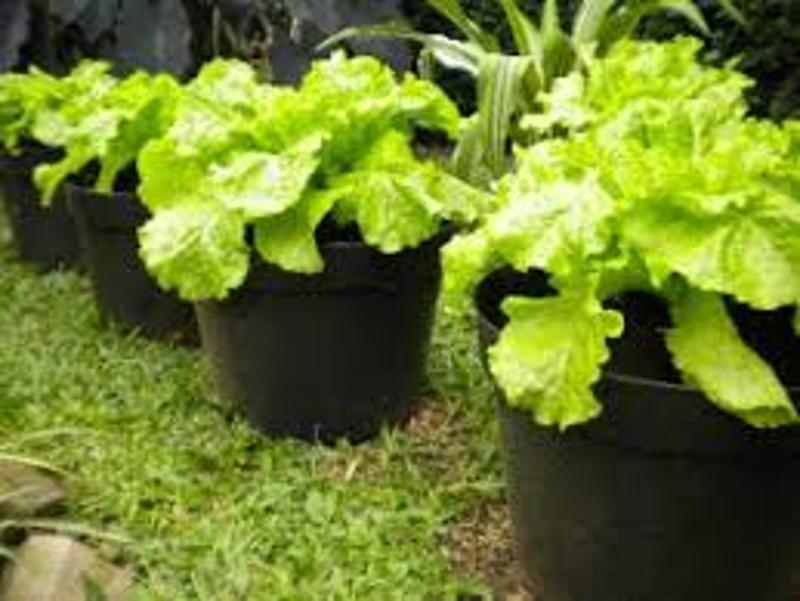green lettuce: (500, 43, 797, 427), (150, 62, 470, 286)
